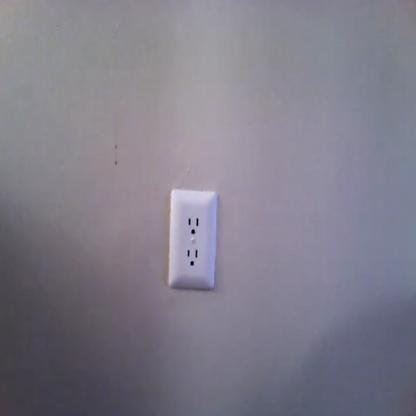OUTLET: (168, 190, 217, 292)
